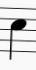note: (5, 4, 28, 62)
